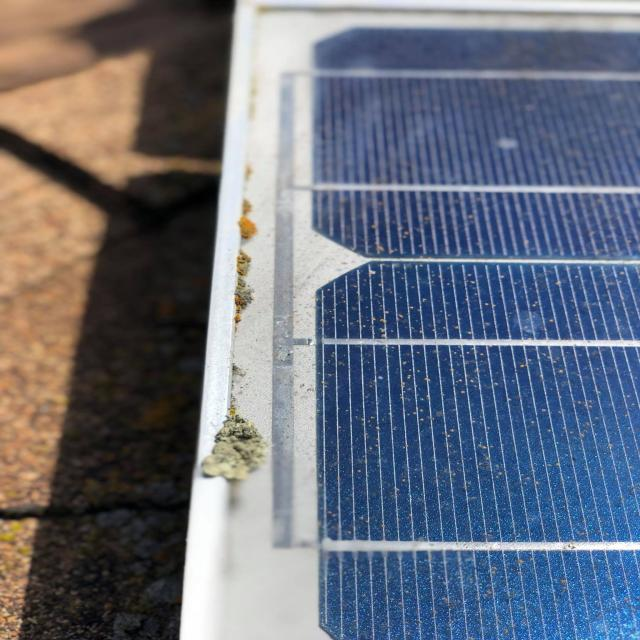dust-solar-panel: (187, 0, 640, 640)
